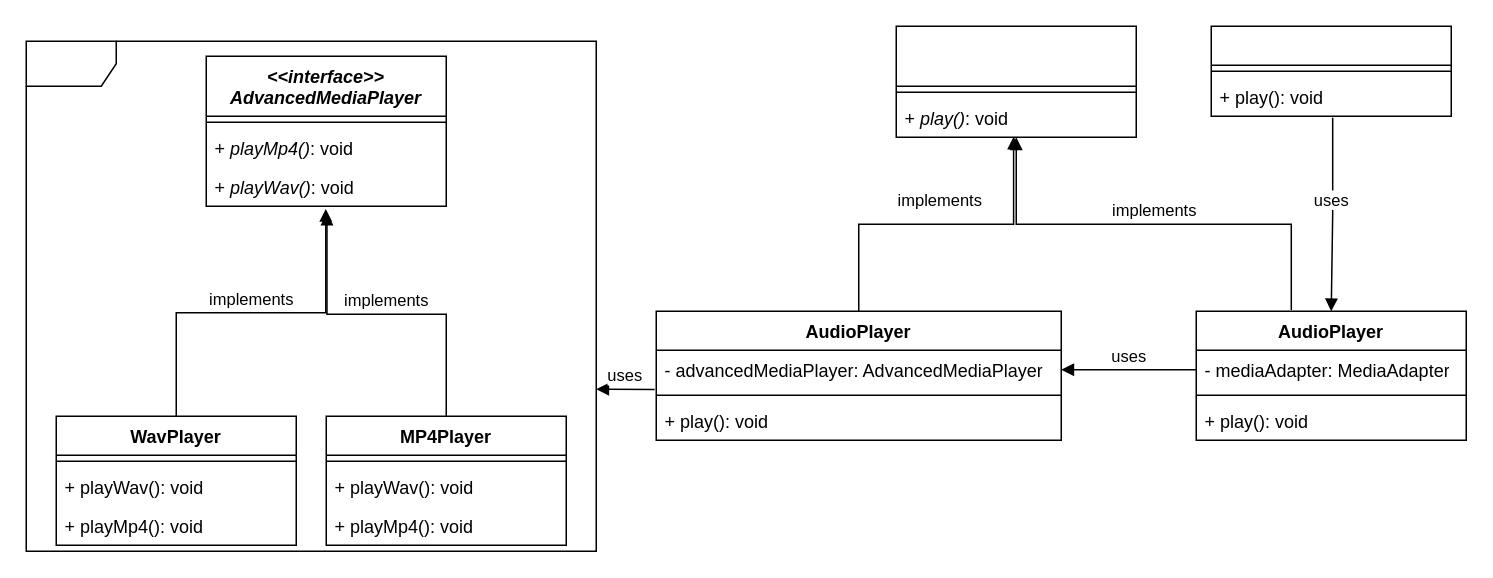
The diagram is 1493 pixels wide and 578 high, and some of its shapes have lost their labels. Here are the shapes that lost their labels. From the top down, the box of each, then its label:
(895, 25, 1136, 137): <<interface>> MediaPlayer
(1210, 25, 1451, 116): Home
(25, 40, 596, 551): Adapter
